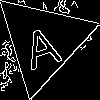A: (18, 16, 64, 71)
